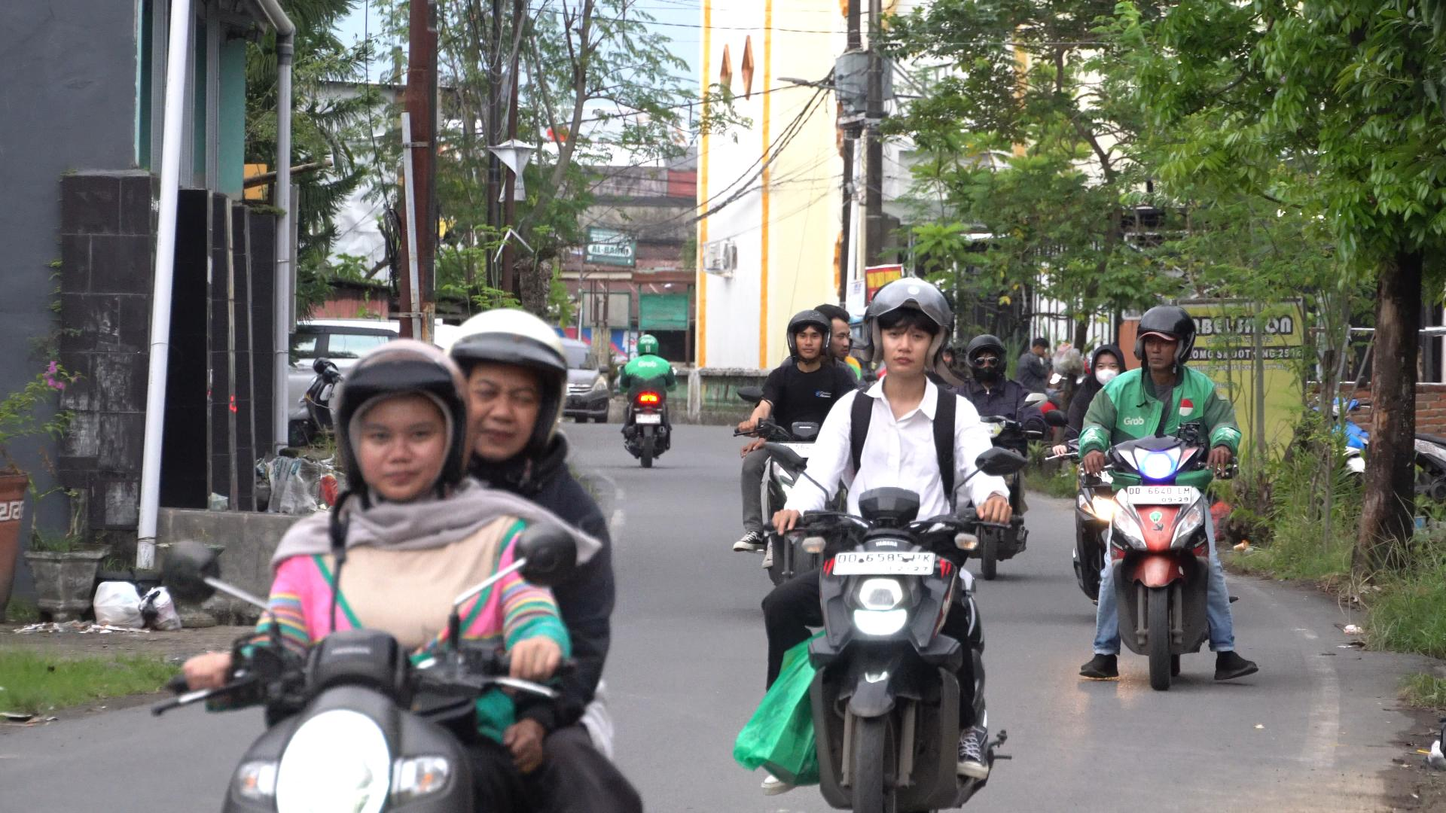number-plate: (1125, 482, 1195, 503), (833, 548, 937, 559)
